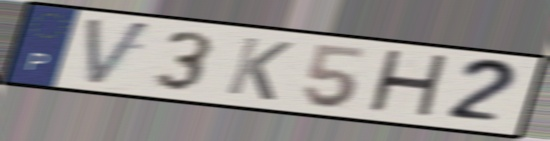2: (439, 57, 524, 132)
3: (151, 29, 215, 92)
5: (300, 40, 371, 111)
H: (363, 46, 453, 123)
K: (221, 34, 296, 104)
V: (83, 15, 156, 90)
